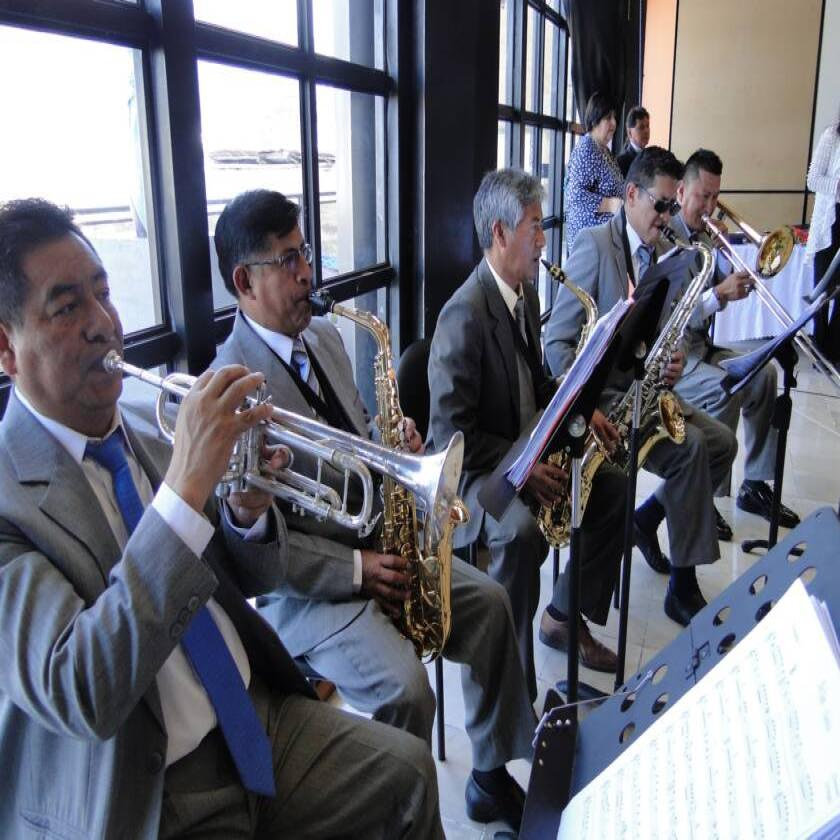Sin_casco: (0, 189, 134, 426), (206, 176, 322, 361), (476, 171, 554, 281), (629, 145, 686, 257), (682, 145, 726, 234), (587, 88, 622, 154), (625, 99, 653, 147)
